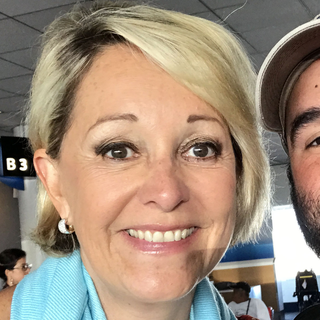eye: (172, 134, 226, 166), (91, 138, 144, 166)
